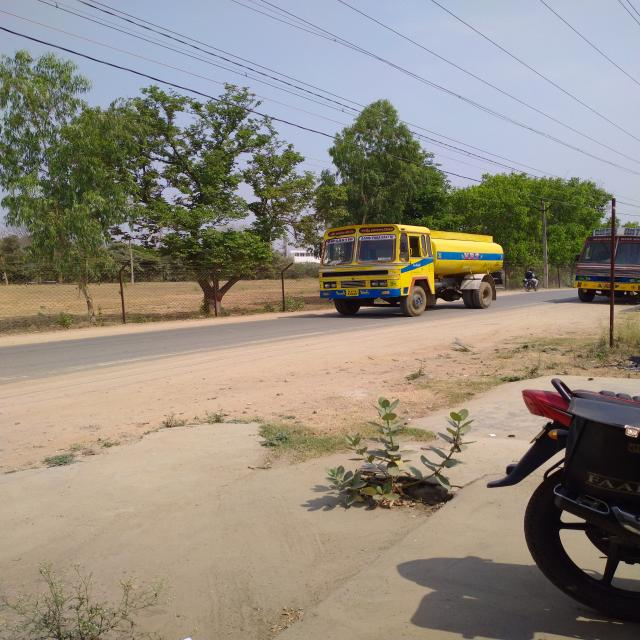Bike: (490, 379, 640, 577)
truck: (324, 224, 506, 316)
